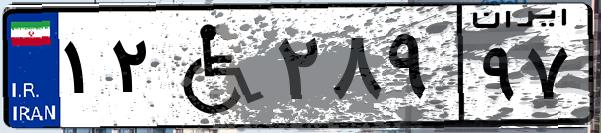1: (57, 26, 110, 100)
2: (270, 28, 330, 110), (110, 28, 158, 98)
7: (525, 38, 570, 115)
8: (330, 28, 385, 110)
9: (385, 28, 445, 110), (475, 38, 525, 113)
ژ (معلولین و جانبازان): (158, 12, 270, 120)
